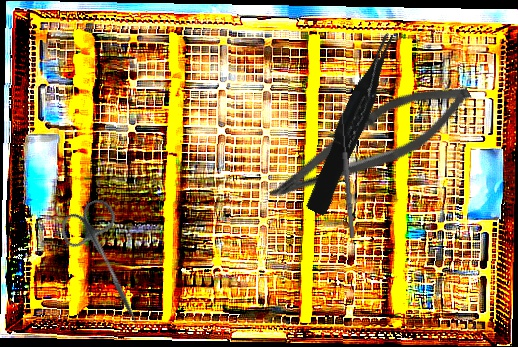Hook Surgical: (333, 113, 357, 239)
Iris Scissors: (54, 194, 164, 335)
Micro Scissor: (259, 62, 482, 228)
Tissue Forceps: (298, 30, 409, 217)
